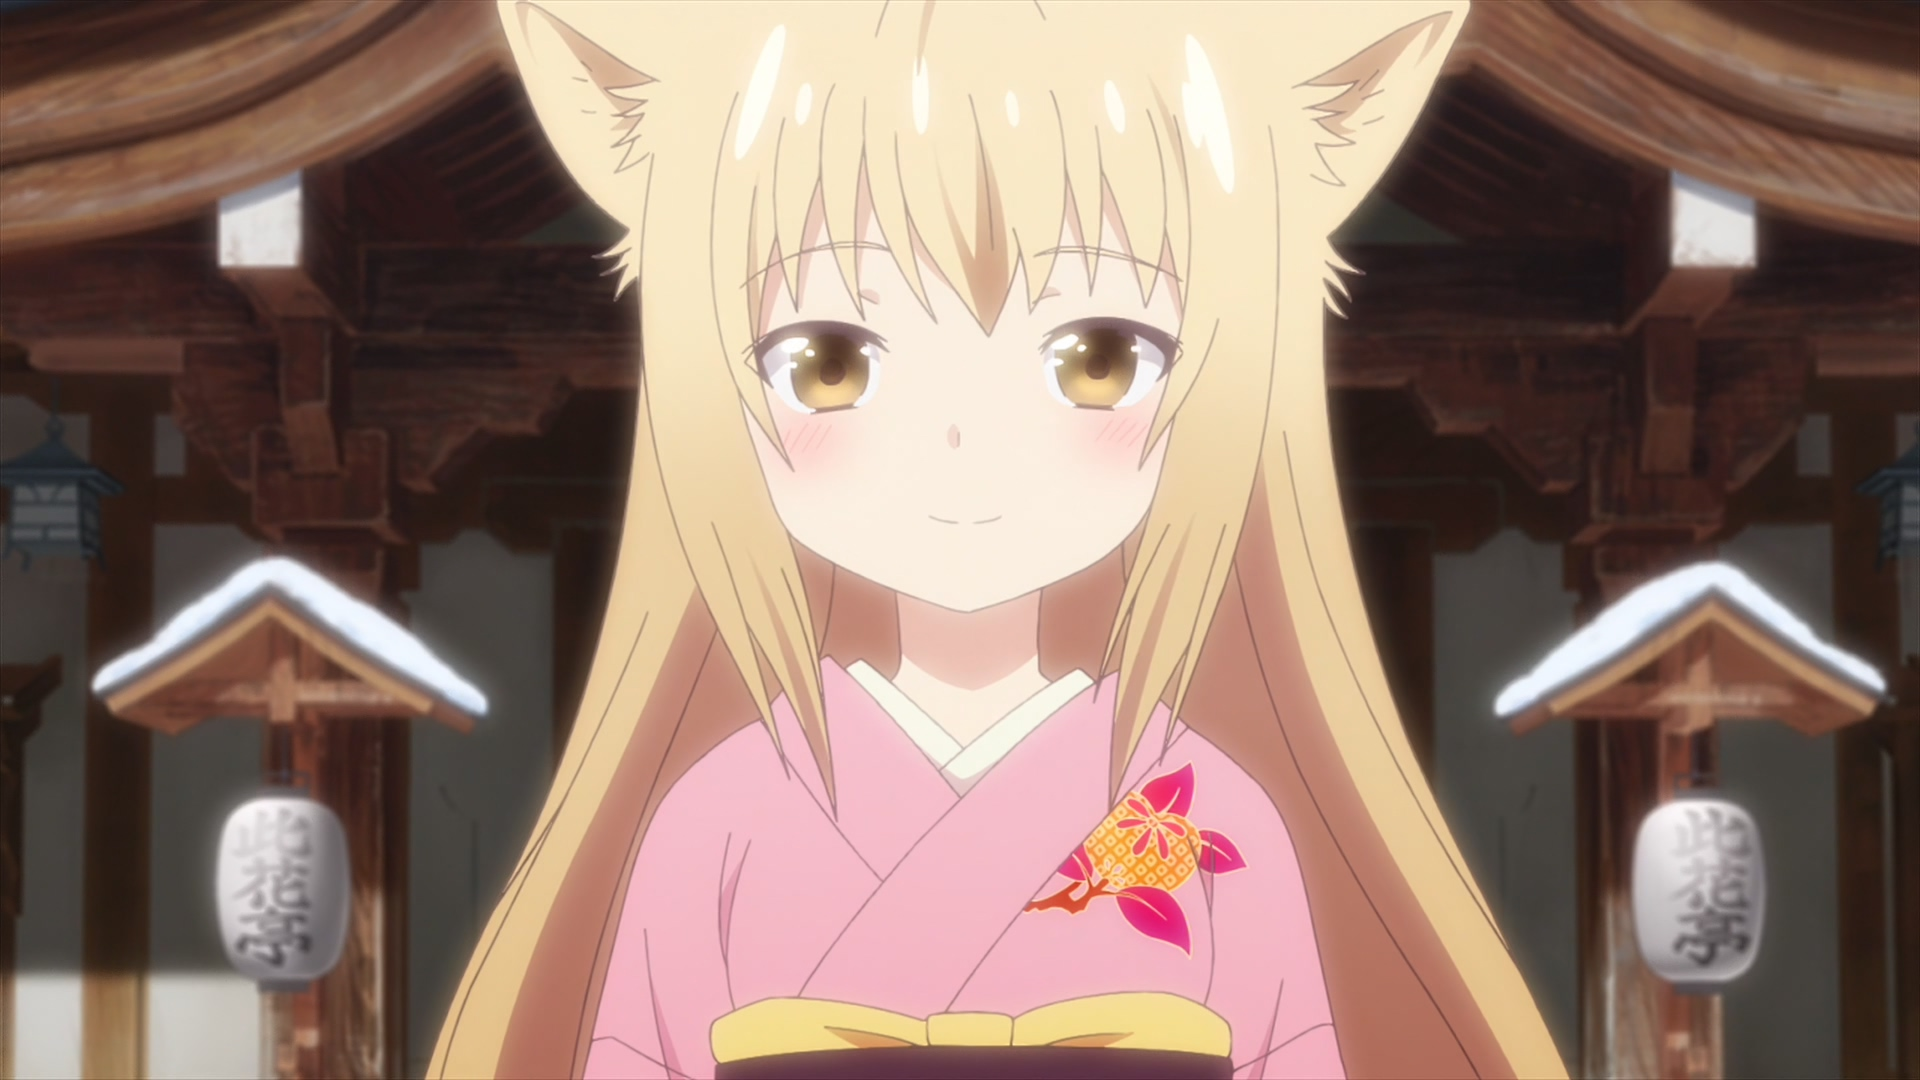柚: (426, 1, 1571, 1080)
